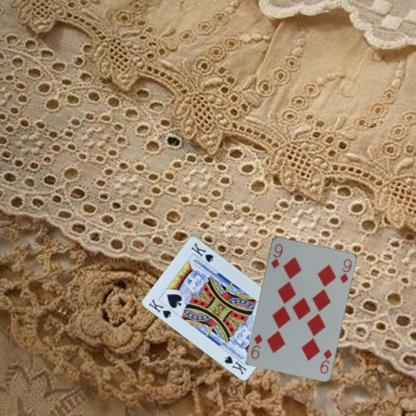9d: (317, 346, 333, 375), (268, 241, 284, 269)
Ks: (146, 297, 173, 320)
